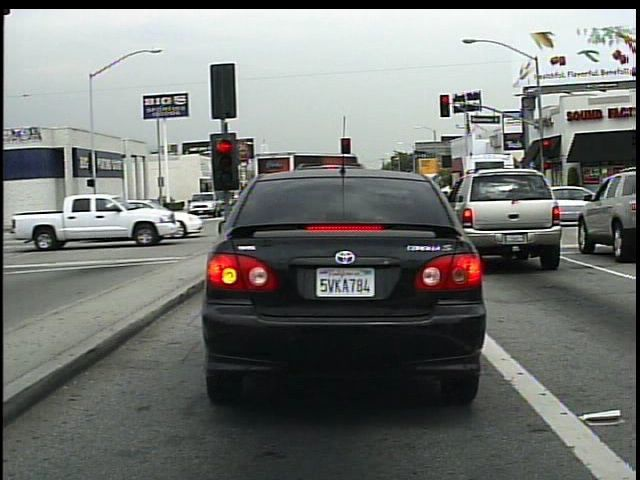person: (80, 188, 101, 223)
